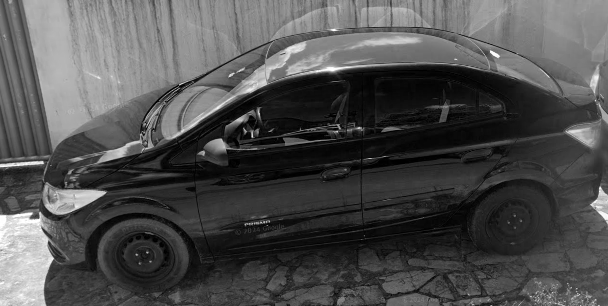car: (38, 27, 600, 290)
